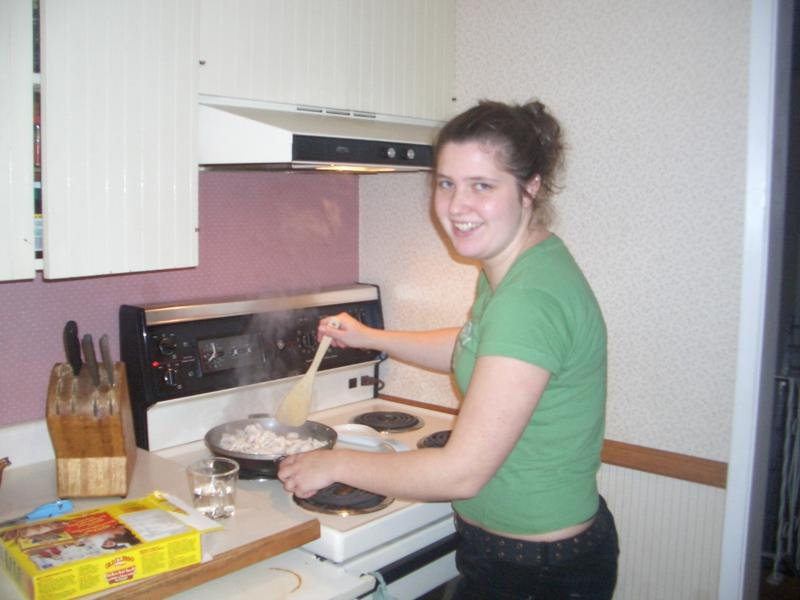person: (278, 99, 619, 600)
